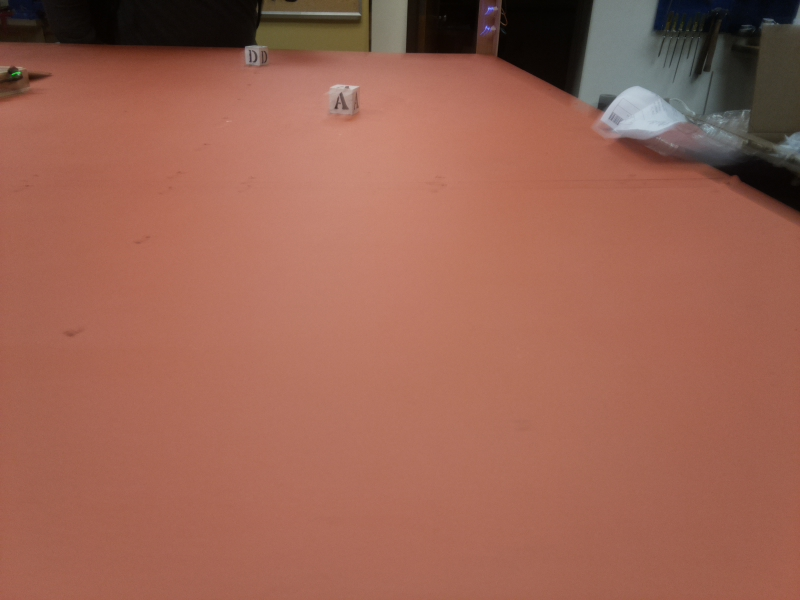blockA: (328, 83, 358, 120)
blockD: (242, 44, 270, 69)
corner: (474, 1, 504, 55)
side: (1, 67, 38, 98)
slope: (28, 66, 52, 78)
